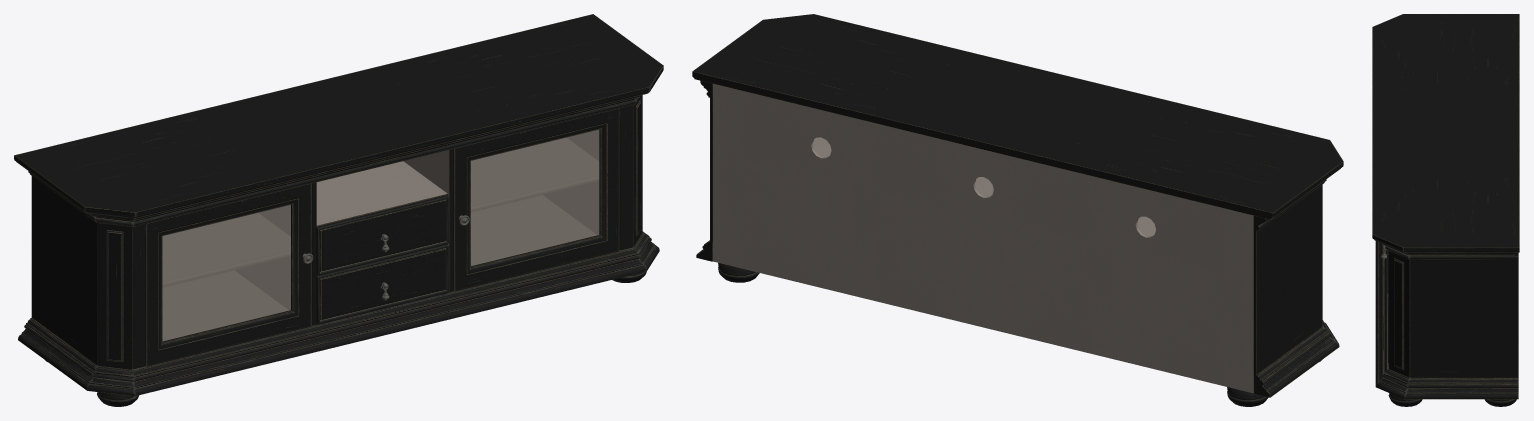
File: example91.gltf
3 renders of one model, left to right at view 1: azimuth 30°, elevation 25°; view 2: azimuth 150°, elevation 25°; view 3: azimuth 270°, elevation 25°, orthographic. The views are drawn at different scales.
Size of the model in its own units: 170 by 57 by 45.3.
4 materials, 4 textured.
